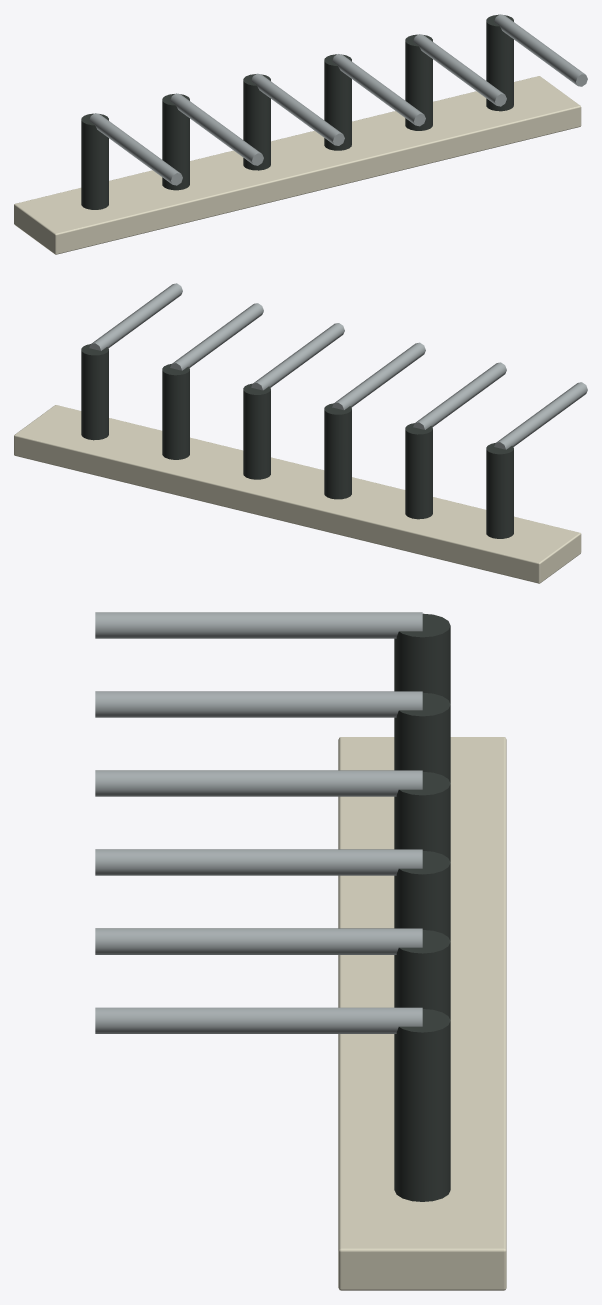
The model's file is scavengers-loot-library-diode-strip-2a2c22c2__2509.glb.
3 views of the same model, one above another, from view 1: azimuth 30°, elevation 25°; view 2: azimuth 150°, elevation 25°; view 3: azimuth 270°, elevation 25° (orthographic). The views are drawn at different scales.
Parts seen in each view (by area): view 1: diode-strip; view 2: diode-strip; view 3: diode-strip.
Part boxes in pixels (bbox=[...]): diode-strip: bbox=[14, 14, 587, 254]; diode-strip: bbox=[14, 283, 587, 583]; diode-strip: bbox=[95, 612, 506, 1290].
Bounding box in the file's own units: 0.13 × 0.0265 × 0.044.
